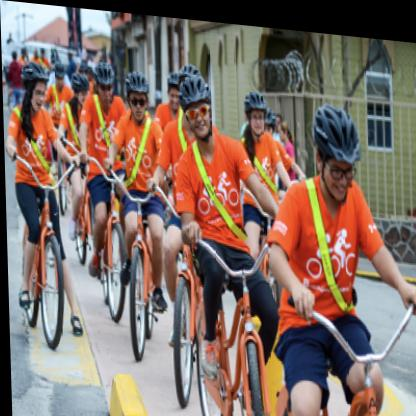With Helmet: (311, 91, 361, 200), (176, 68, 212, 138), (18, 56, 50, 111), (240, 82, 272, 133), (122, 65, 151, 120)
